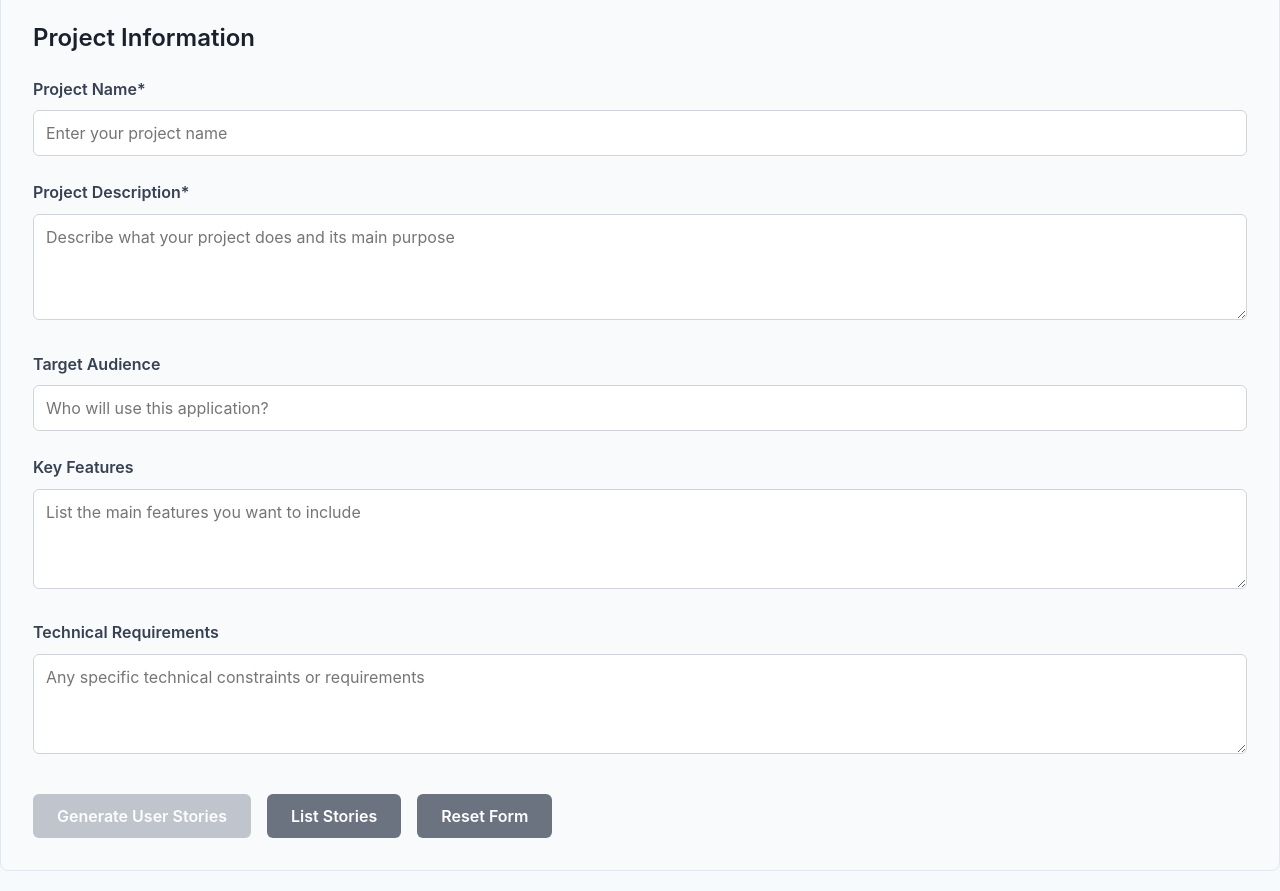
Test case: StoryGenerator Component › Form Submission - Error Cases › displays generic error message when API returns non-JSON response
The width and height of the screenshot is (1280, 891).
Type "Test Project" into the field labelled "Project Name*".
click(640, 133); type("Test Project")  # box [33,110,1247,156]
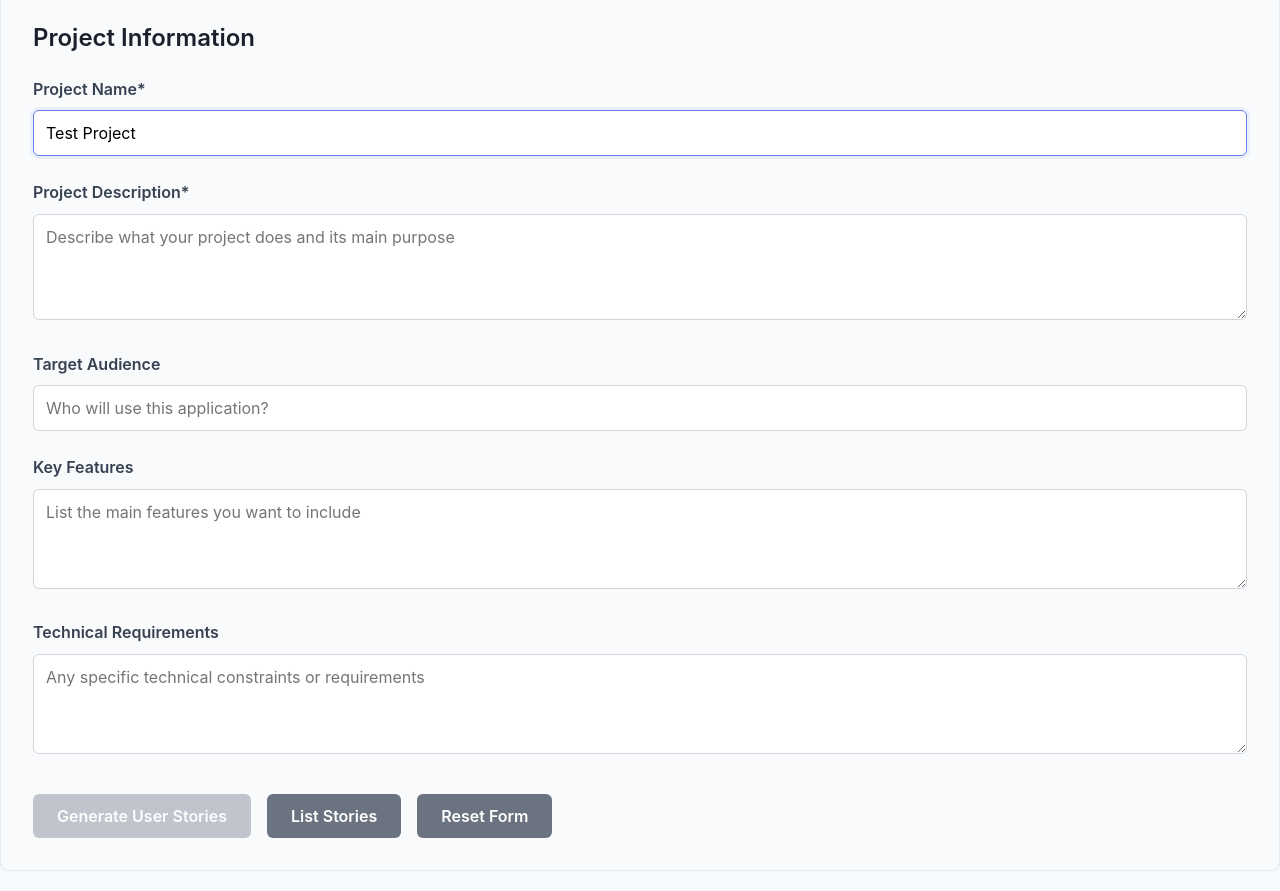
Type "A comprehensive test project for story generation" into the text box labelled "Project Description*".
click(640, 267); type("A comprehensive test project for story generation")  # box [33,214,1247,320]
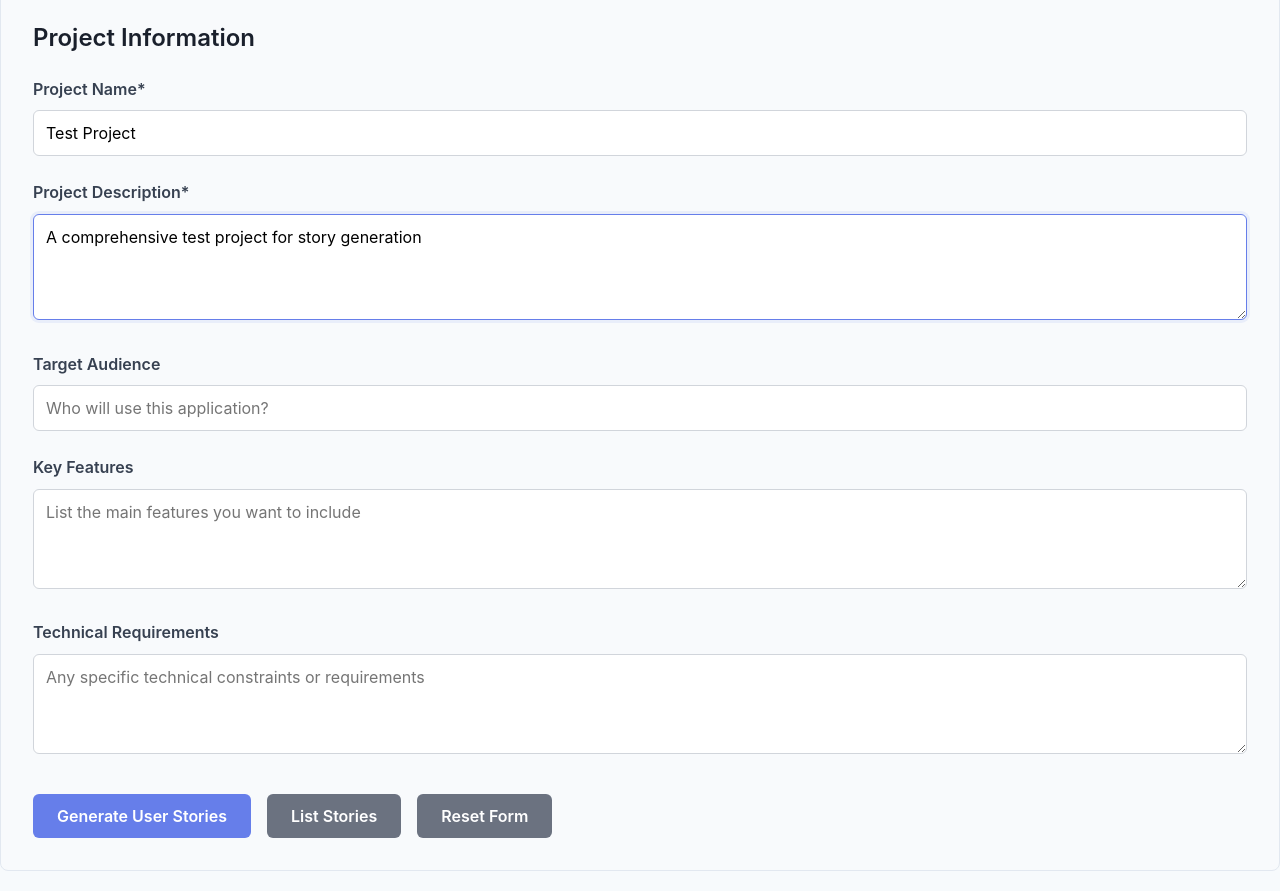
Type "Developers and QA engineers" into the field with id "targetAudience".
click(640, 408); type("Developers and QA engineers")  # box [33,385,1247,431]
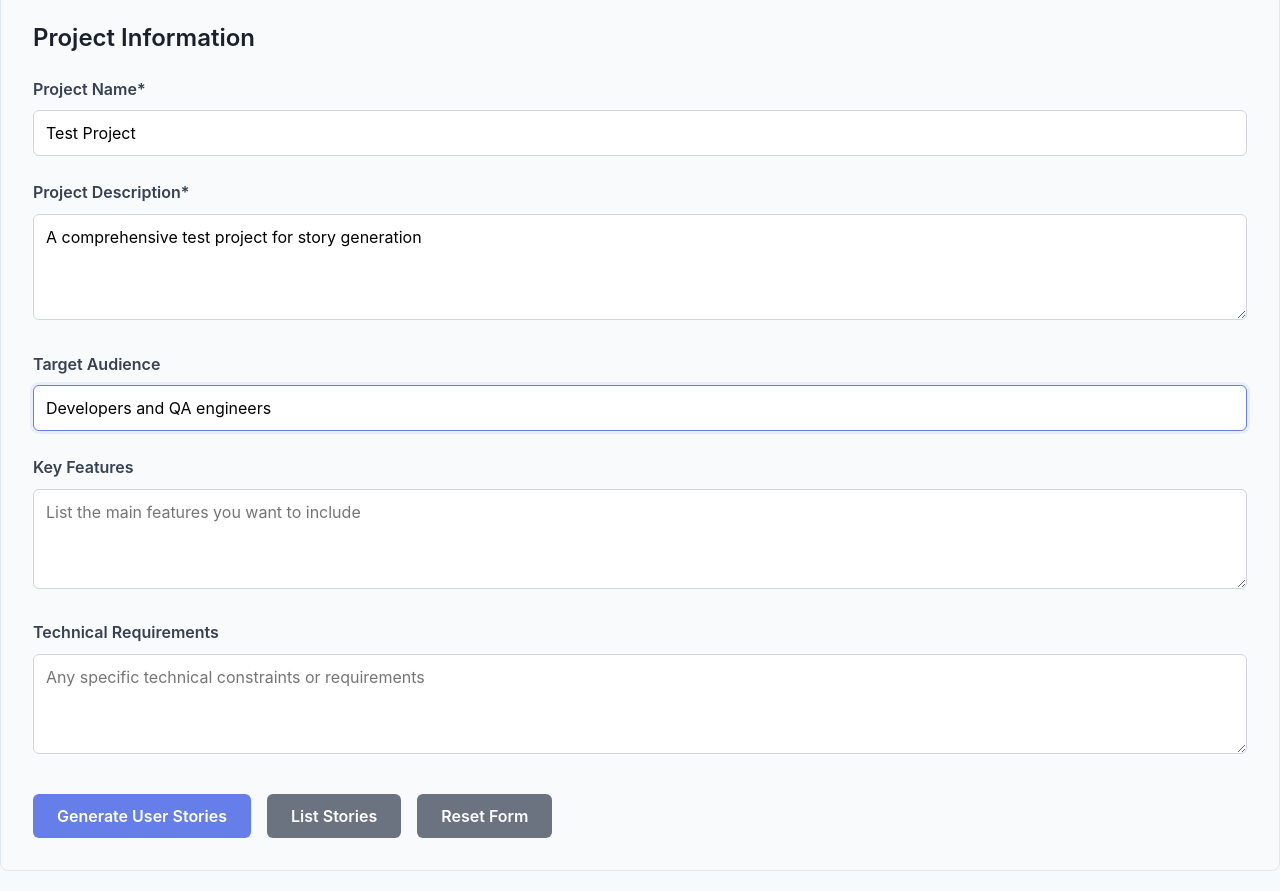
Type "User authentication, Story generation, API integration" into the text box with id "keyFeatures".
click(640, 539); type("User authentication, Story generation, API integration")  # box [33,489,1247,589]
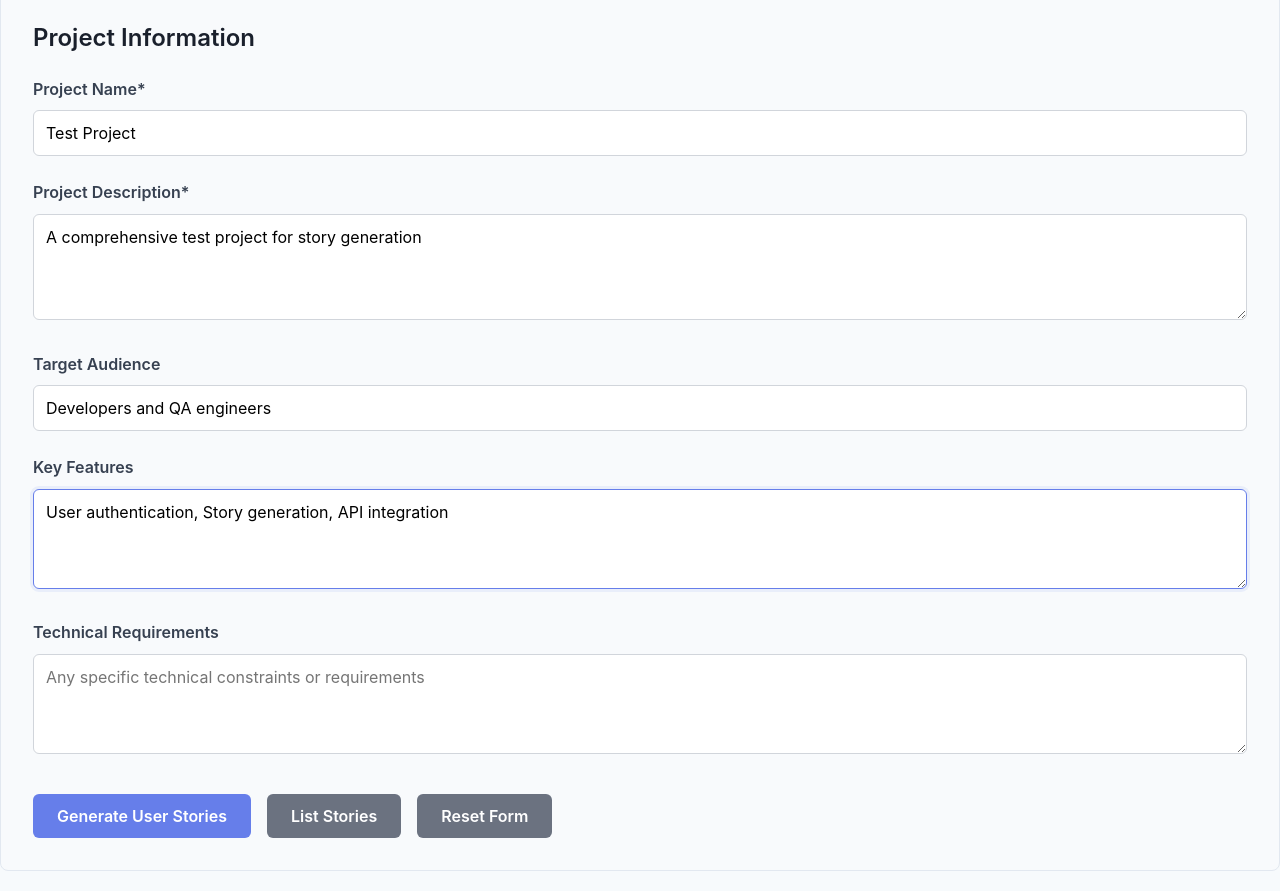
Type "React, FastAPI, PostgreSQL" into the text box with id "technicalRequirements".
click(640, 704); type("React, FastAPI, PostgreSQL")  # box [33,654,1247,754]
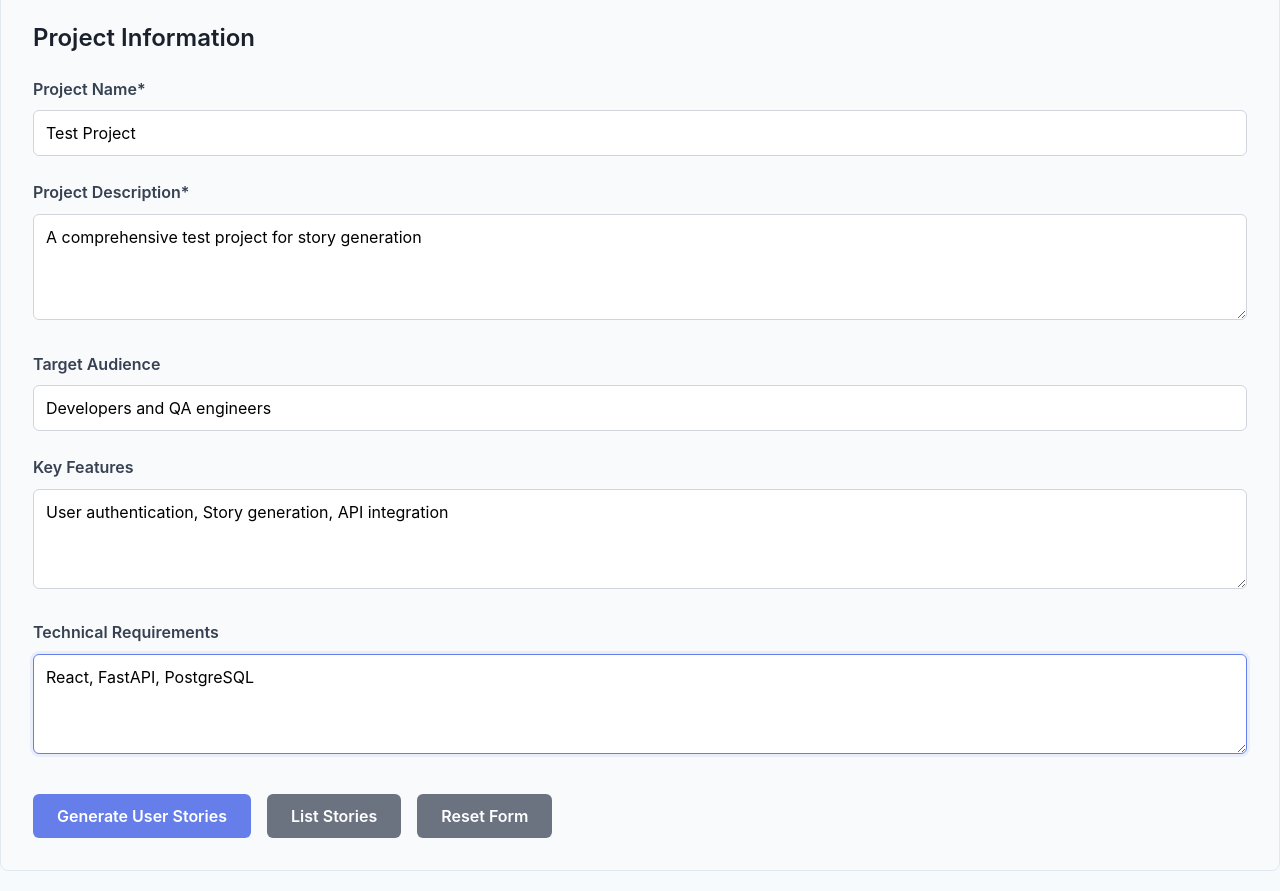
Click the button "Generate User Stories".
click(142, 816)  # box [33,794,251,838]
(page scrolled)
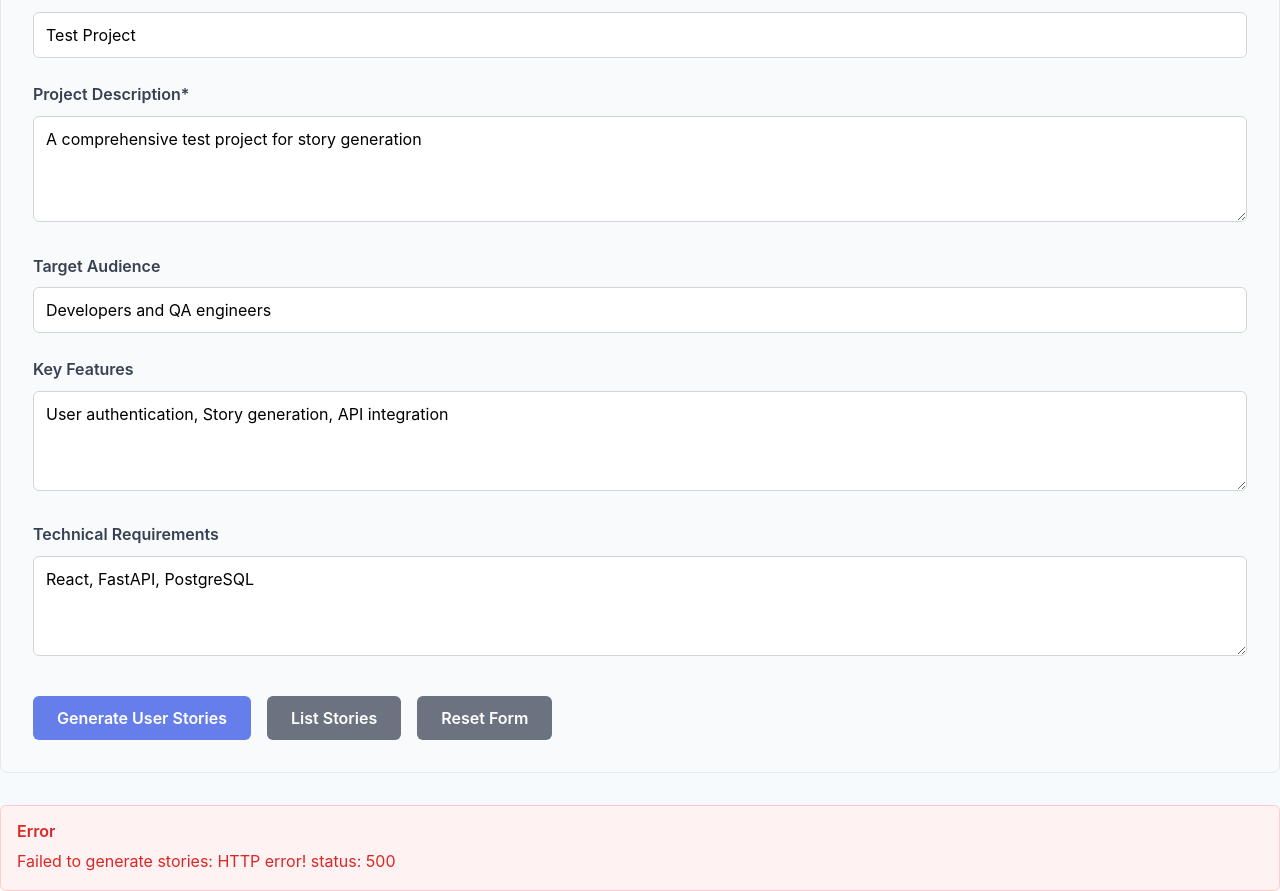
Expected: the element with class "error-message" is shown, [0,804,1279,890]
Expected: the element with class "error-message" shows "Failed to generate stories: HTTP error! status: 500", [17,851,396,871]
